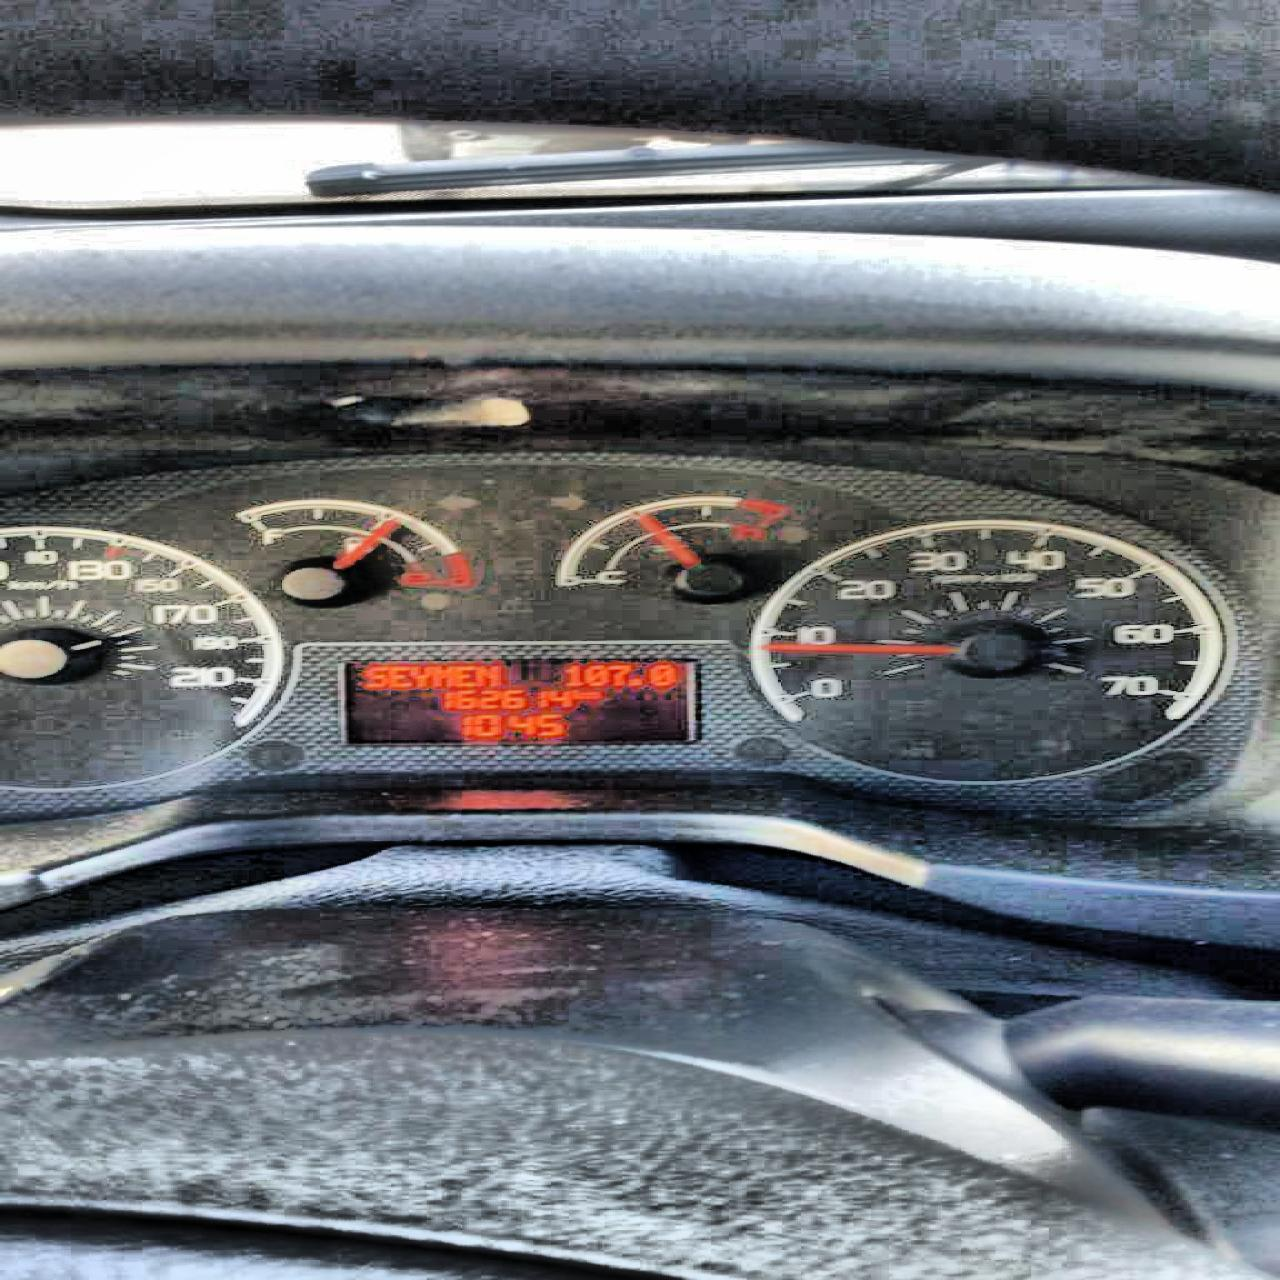-: (625, 678, 640, 687)
0: (469, 714, 501, 735), (647, 663, 675, 685), (583, 663, 608, 686)
1: (561, 663, 580, 686), (459, 715, 471, 735), (536, 689, 546, 707), (442, 692, 451, 709)
2: (476, 690, 497, 708)
4: (504, 715, 536, 735), (546, 690, 571, 708)
5: (536, 713, 563, 735)
6: (498, 688, 523, 708), (454, 690, 474, 709)
7: (607, 663, 629, 685)
X: (384, 666, 411, 686), (427, 665, 451, 686), (474, 665, 498, 686), (362, 665, 384, 687), (407, 665, 429, 686), (451, 665, 474, 686)
odometer: (334, 658, 695, 743)
